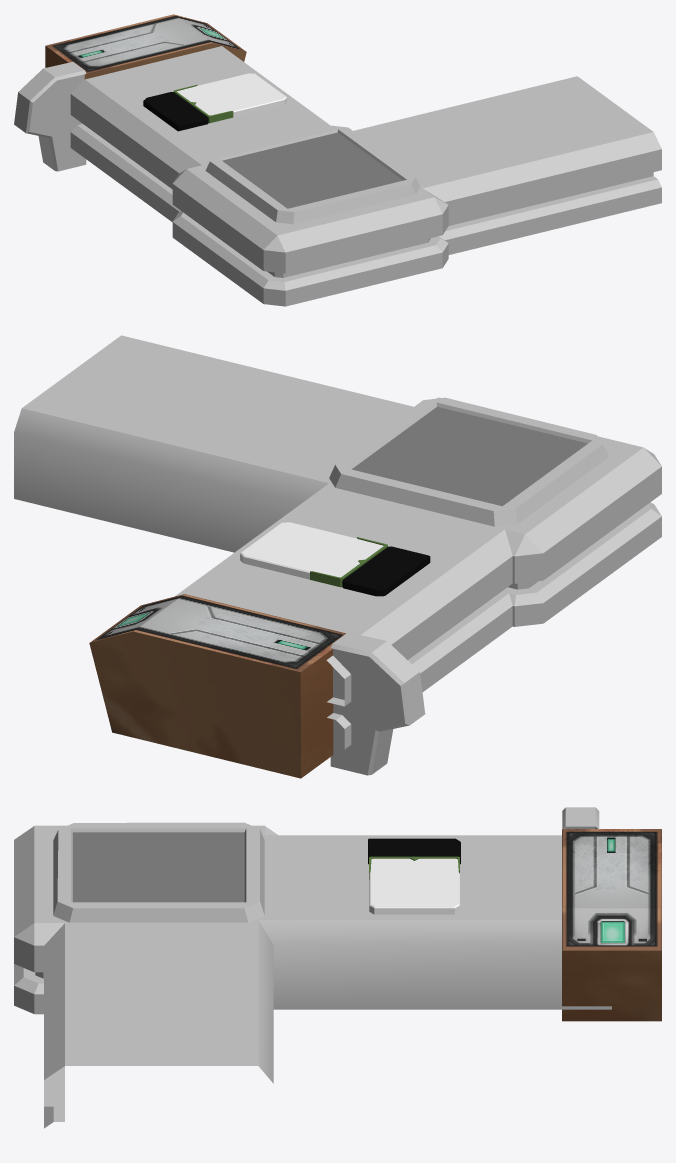
The model's file is scence.fbx.
3 views of the same model, one above another, from view 1: azimuth 30°, elevation 25°; view 2: azimuth 150°, elevation 25°; view 3: azimuth 270°, elevation 25° (orthographic). The views are drawn at different scales.
Parts seen in each view (by area): view 1: Base, Square, lattice_2, Decorate_1, lattice_1; view 2: Base, lattice_2, Square, Decorate_1, lattice_1; view 3: Base, Square, lattice_2, lattice_1, Decorate_1.
Part boxes in pixels (x1,y1,x2,y2): Base: (70, 46, 661, 306); Square: (205, 125, 420, 224); lattice_2: (45, 14, 246, 79); Decorate_1: (14, 62, 86, 171); lattice_1: (143, 73, 286, 131); Base: (14, 335, 661, 748); lattice_2: (89, 594, 345, 778); Square: (329, 397, 609, 526); Decorate_1: (330, 632, 425, 775); lattice_1: (240, 522, 430, 596); Base: (14, 825, 611, 1128); Square: (53, 822, 264, 922); lattice_2: (562, 829, 661, 1021); lattice_1: (368, 838, 460, 914); Decorate_1: (562, 807, 599, 829).
Size of the model in its own units: 610 by 129 by 627.
